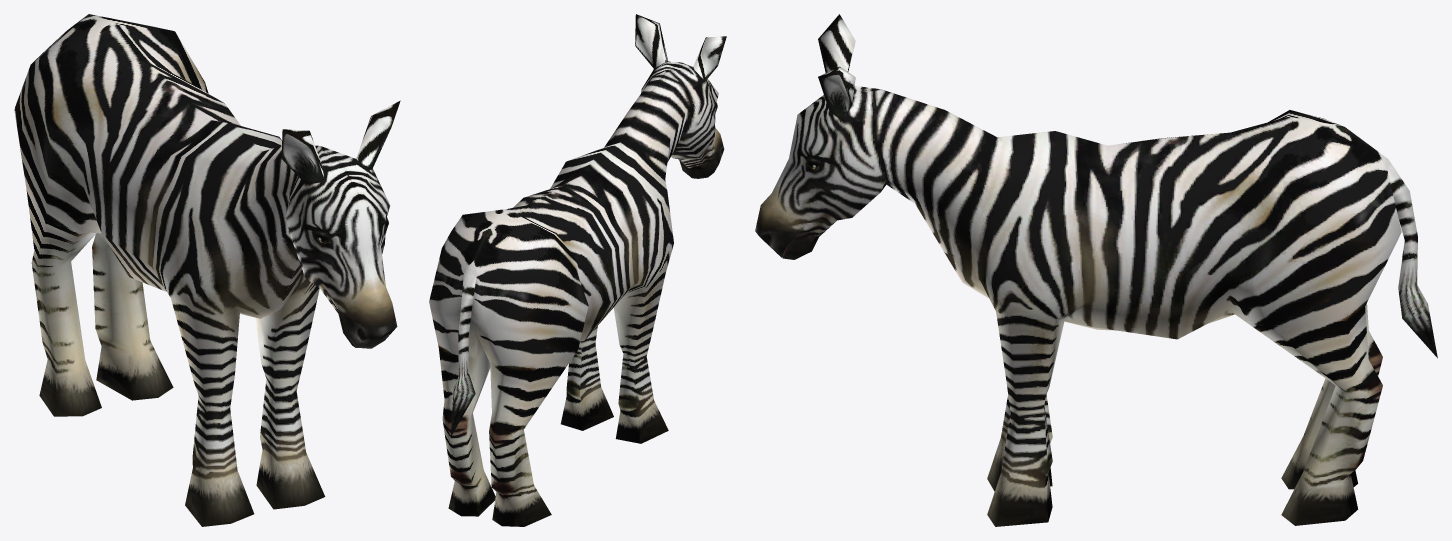
The model's file is zebra.obj.
3 renders of one model, left to right at view 1: azimuth 30°, elevation 25°; view 2: azimuth 150°, elevation 25°; view 3: azimuth 270°, elevation 25°, orthographic. The views are drawn at different scales.
Visible parts, largest first — view 1: Zebra_Adult_M_LOD0:0; view 2: Zebra_Adult_M_LOD0:0; view 3: Zebra_Adult_M_LOD0:0.
Boxes of the visible parts, <box> form: Zebra_Adult_M_LOD0:0: <box>14,14,400,526</box>; Zebra_Adult_M_LOD0:0: <box>429,14,726,526</box>; Zebra_Adult_M_LOD0:0: <box>755,14,1437,526</box>.
Bounding box in the file's own units: 0.7864 × 1.98 × 2.7.
